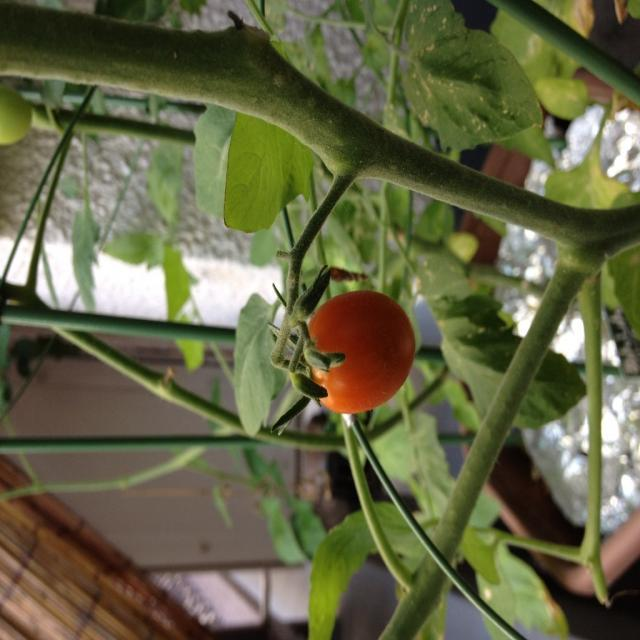Tomato: (296, 277, 430, 413)
